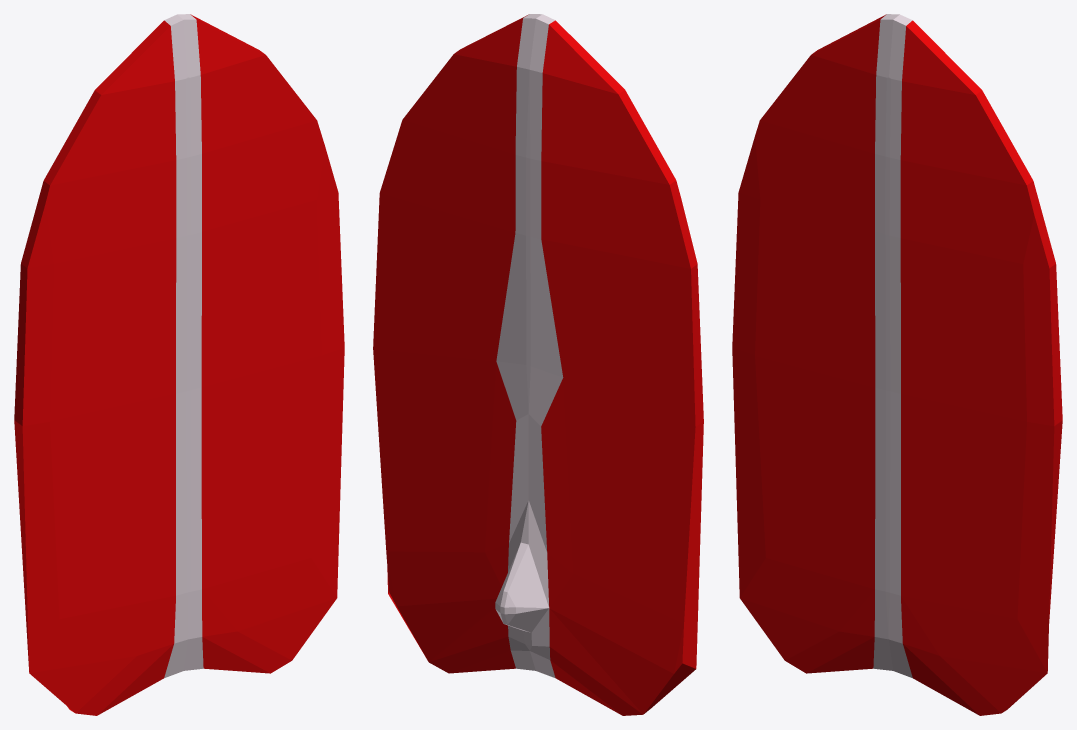
The model's file is SM_Surfe_A.fbx.
The picture shows the model from 3 angles, left to right: view 1: azimuth 30°, elevation 25°; view 2: azimuth 150°, elevation 25°; view 3: azimuth 330°, elevation 25°; orthographic projection.
Visible parts, largest first — view 1: SM_Surfe_B; view 2: SM_Surfe_B; view 3: SM_Surfe_B.
Boxes of the visible parts, <box> form: SM_Surfe_B: <box>14,14,344,715</box>; SM_Surfe_B: <box>373,14,703,715</box>; SM_Surfe_B: <box>732,14,1062,715</box>.
Bounding box in the file's own units: 108 × 216 × 26.61.
